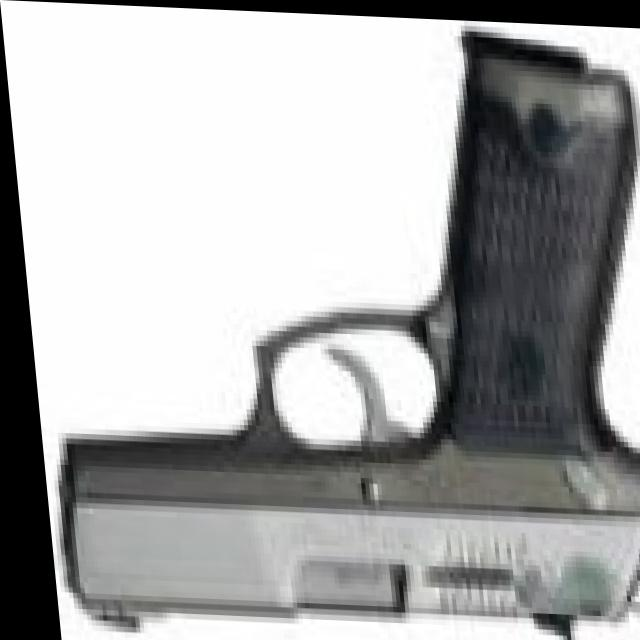handgun: (14, 27, 640, 640)
